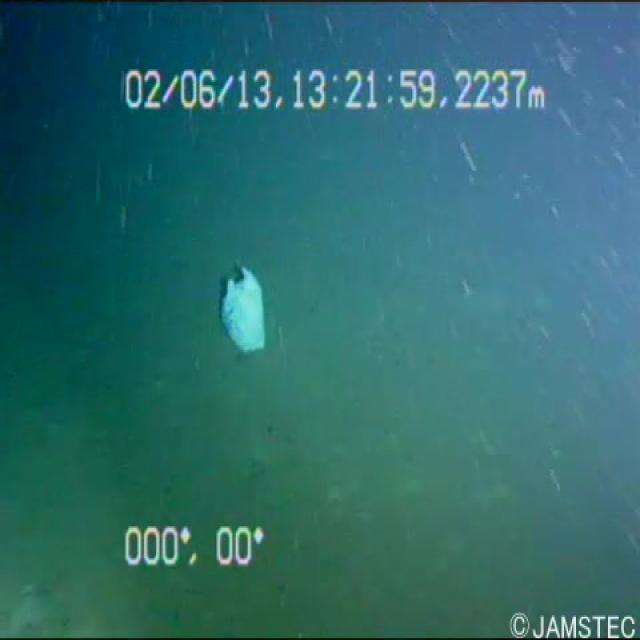plastic: (202, 250, 318, 394)
